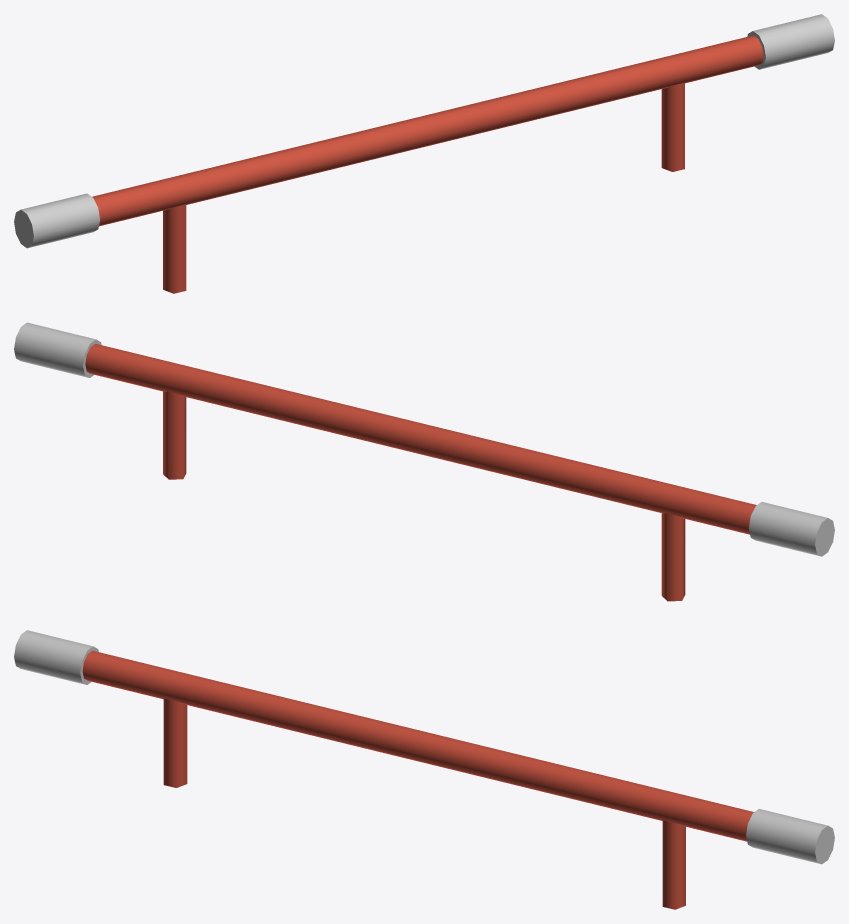
The picture shows the model from 3 angles, top to bottom: view 1: azimuth 30°, elevation 25°; view 2: azimuth 150°, elevation 25°; view 3: azimuth 330°, elevation 25°; orthographic projection.
Visible parts, largest first — view 1: SM_Tube_01; view 2: SM_Tube_01; view 3: SM_Tube_01.
Boxes of the visible parts, <box> form: SM_Tube_01: <box>14,14,834,293</box>; SM_Tube_01: <box>14,322,834,601</box>; SM_Tube_01: <box>14,630,834,909</box>.
Bounding box in the file's own units: 174 × 23.54 × 7.48.
